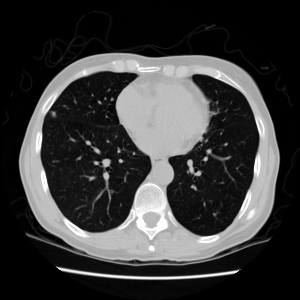nodule: (49, 110, 57, 118)
